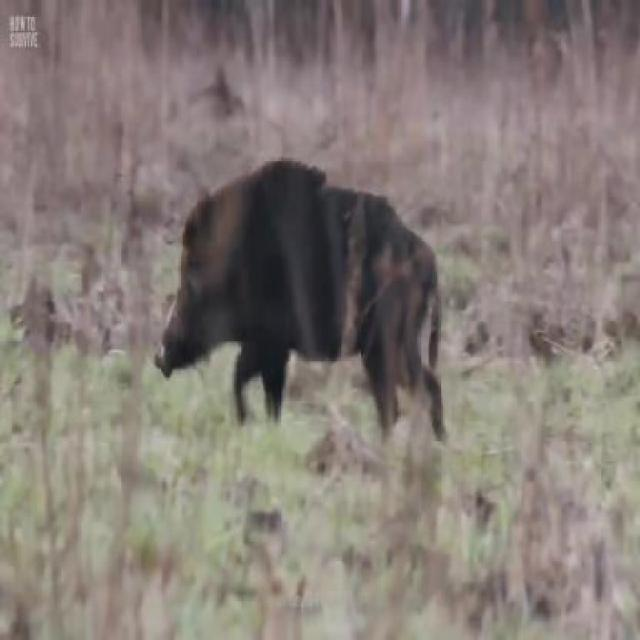pig: (131, 118, 474, 454)
